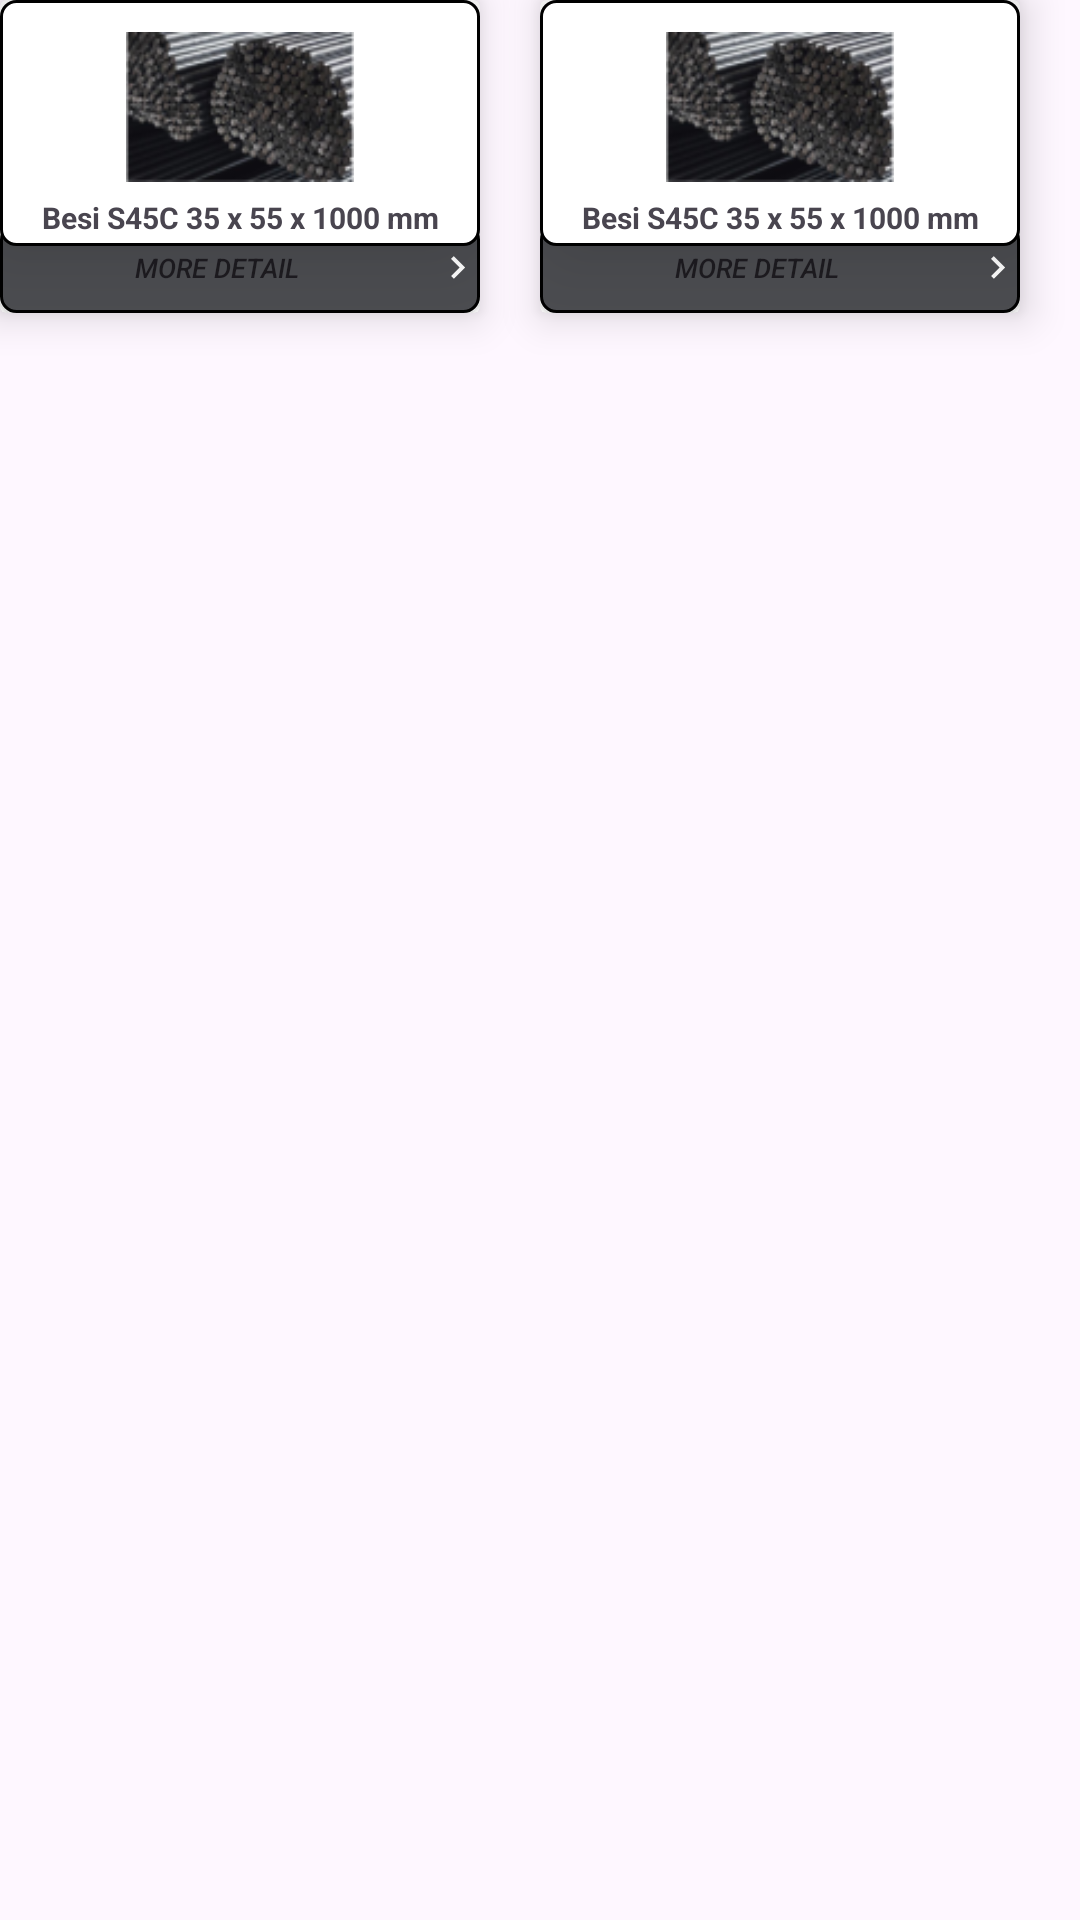

Screen size 1080px x 1920px. Icon name, then its box in pixels as box(x1, y1, x2, y2):
goods: box(126, 32, 354, 182), box(666, 32, 894, 182)
